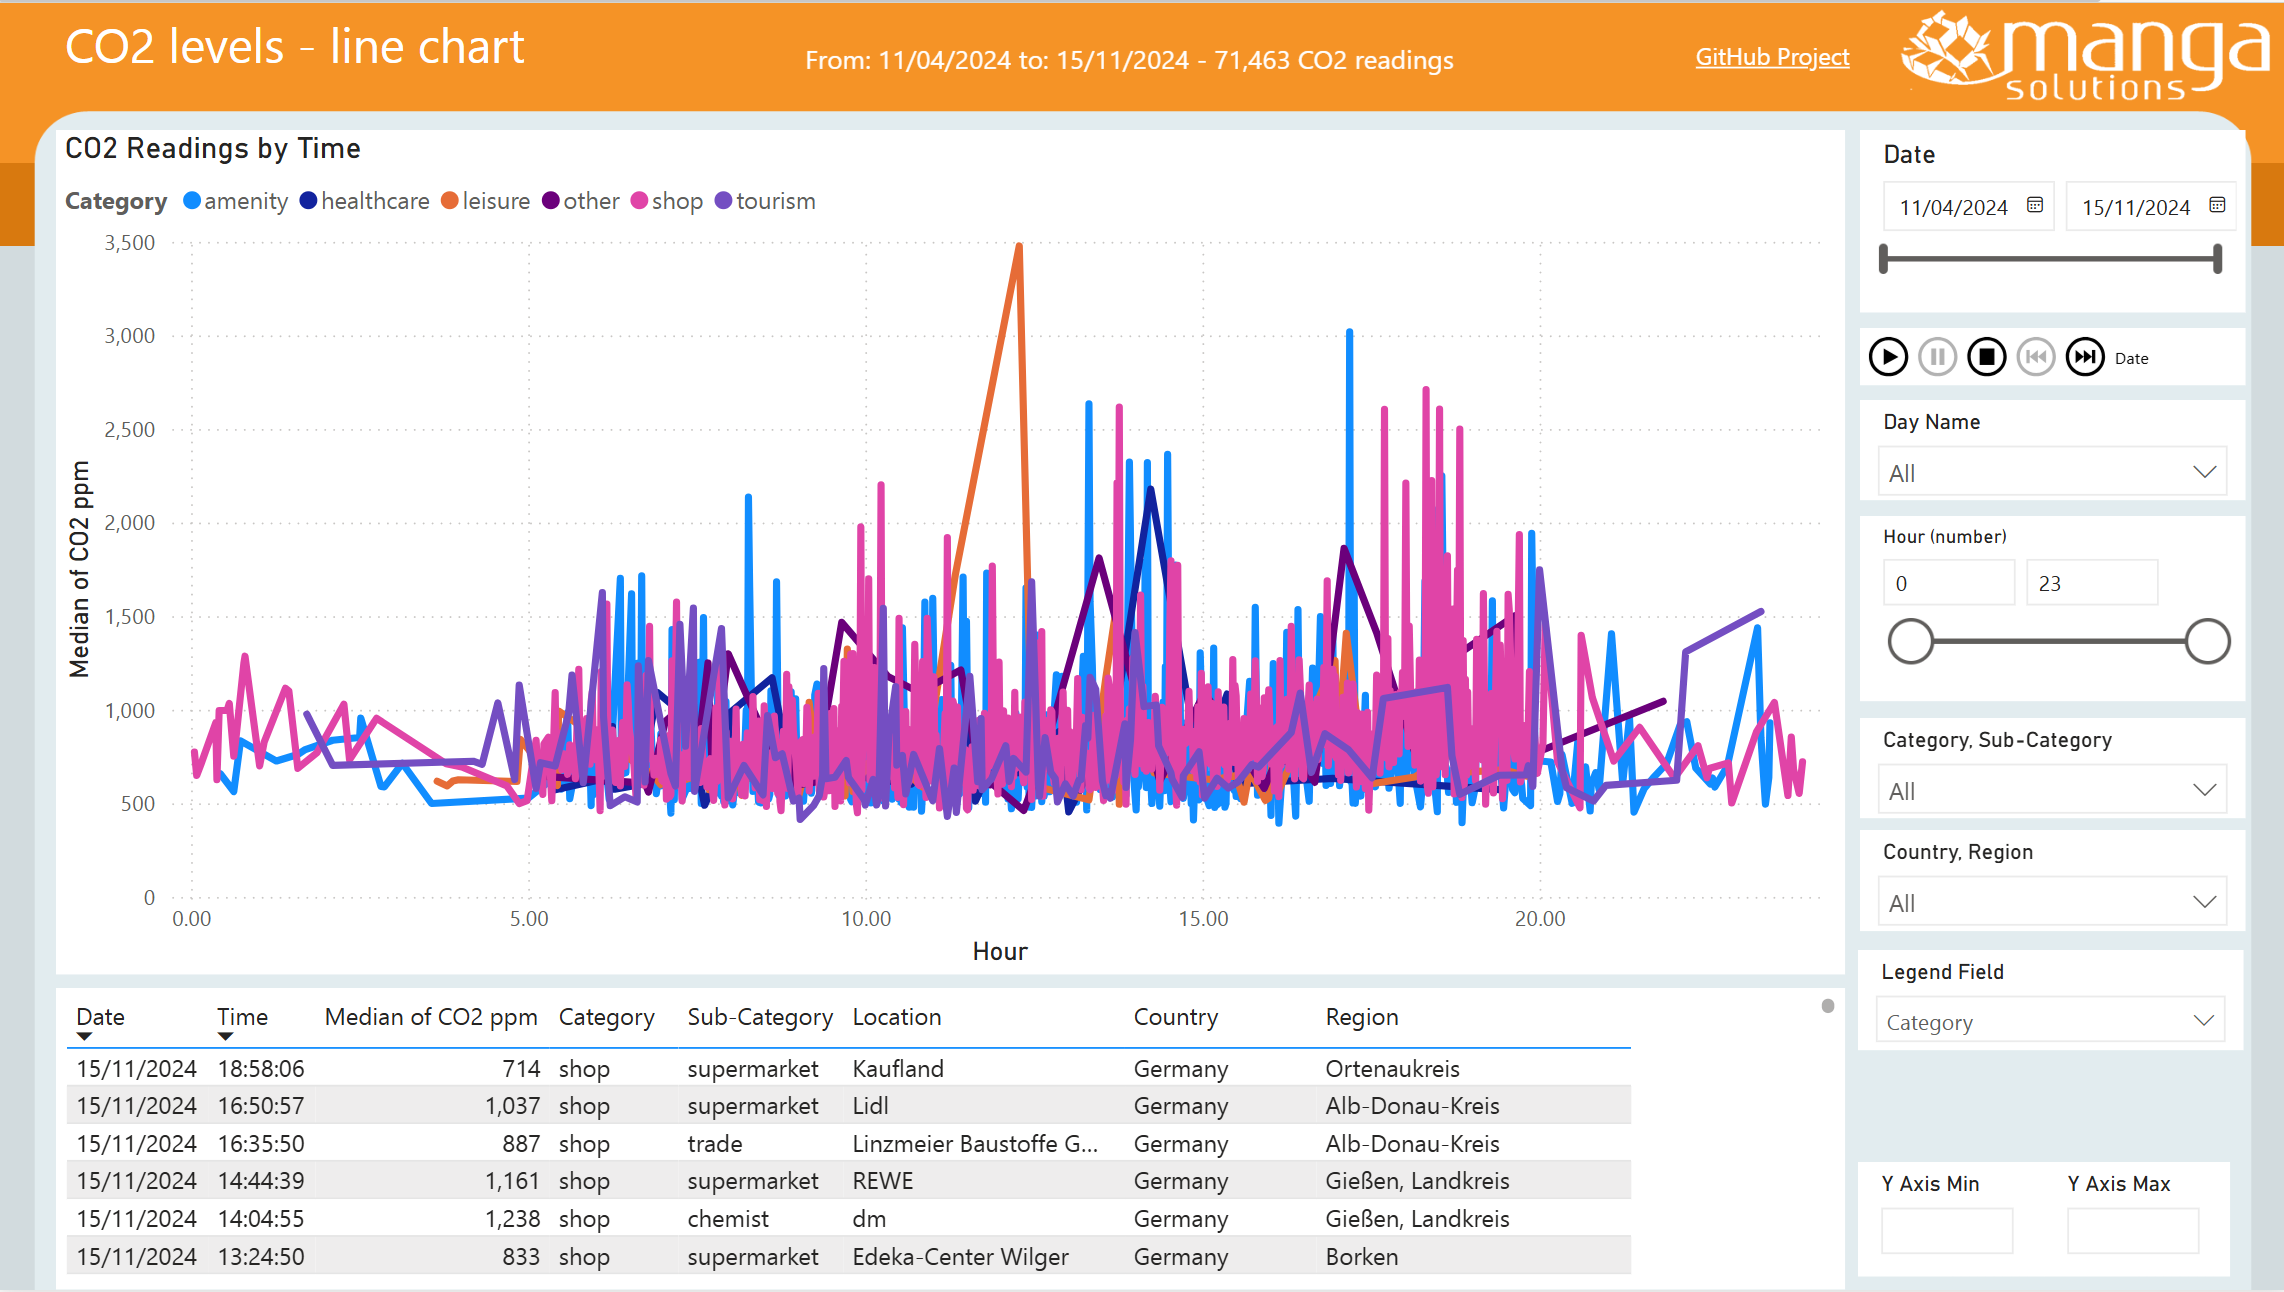

The page's visual inventory and layout, read from the dashboard file:
{"tool":"powerbi","page":{"name":"Line Chart","canvas":[1280,720],"ordinal":4},"visuals":[{"type":"slicer","fields":{"Values":["Parameter.Parameter"]},"box":[1040.1,530.2,215.5,55.9],"z":0},{"type":"slicer","fields":{"Values":["Y Axis Max.Y Axis Max"]},"box":[1144,648,104,64],"z":2000},{"type":"slicer","title":"Y Axis Min","fields":{"Values":["^ Y Axis Min.^ Y Axis Min"]},"box":[1040,648,104,64],"z":3000},{"type":"actionButton","box":[1056,0,224,64],"z":4000},{"type":"textbox","box":[32,0,720,48],"z":5000},{"type":"htmlContent443BE3AD55E043BF878BED274D3A6865","fields":{"content":["Aranet Data.@ Date Range"]},"box":[408,16,464,32],"z":6000},{"type":"lineChart","title":"CO2 Readings by Time","fields":{"Y":["CO2 levels.# Median of CO2 ppm"],"Series":["CO2 levels.Category"],"Category":["Aranet Data.Time (decimal)"]},"box":[32,72,1000,472],"z":7000},{"type":"tableEx","fields":{"Values":["CO2_readings.date","CO2_readings.Time","CO2 levels.# Median of CO2 ppm","CO2 levels.Category","CO2 levels.Sub-Category","CO2 levels.Location","CO2 levels.Country","CO2 levels.Region"]},"box":[31.9,551.5,1000.2,168.5],"z":8000},{"type":"slicer","fields":{"Values":["CO2_readings.Day Name"]},"box":[1040.5,222.6,215.5,55.9],"z":9000},{"type":"slicer","fields":{"Values":["CO2_readings.date"]},"box":[1040.5,71.8,215.5,102],"z":10000},{"type":"slicer","fields":{"Values":["CO2_readings.Hour (number)1"]},"box":[1040.5,287.3,215.5,103.7],"z":11000},{"type":"PBI_CV_16948668_E17D_454B_8664_2F2C470EA8C1","fields":{"category":["CO2_readings.Date (Short)"]},"box":[1040.5,182.7,215.5,31.9],"z":12000},{"type":"slicer","fields":{"Values":["CO2 levels.Category","CO2 levels.Sub-Category"]},"box":[1040.5,399.9,215.5,55.9],"z":13000},{"type":"slicer","fields":{"Values":["CO2 levels.Country","CO2 levels.Region"]},"box":[1040.5,462.9,215.5,56.7],"z":14000},{"type":"textbox","box":[920,16,120,32],"z":15000}]}

Visuals, with their boxes in screenshot pixels (x1, y1, x2, y2), scaled from the page's 1280x720 canvas onto the 2284x1292 screenshot:
slicer - Parameter.Parameter: [x1=1856, y1=951, x2=2240, y2=1052]
slicer - Y Axis Max.Y Axis Max: [x1=2041, y1=1163, x2=2227, y2=1278]
"Y Axis Min" slicer: [x1=1856, y1=1163, x2=2041, y2=1278]
actionButton: [x1=1884, y1=0, x2=2283, y2=115]
textbox: [x1=57, y1=0, x2=1342, y2=86]
htmlContent443BE3AD55E043BF878BED274D3A6865 - Aranet Data.@ Date Range: [x1=728, y1=29, x2=1556, y2=86]
"CO2 Readings by Time" lineChart: [x1=57, y1=129, x2=1841, y2=976]
tableEx - CO2_readings.date x CO2_readings.Time: [x1=57, y1=990, x2=1842, y2=1291]
slicer - CO2_readings.Day Name: [x1=1857, y1=399, x2=2241, y2=500]
slicer - CO2_readings.date: [x1=1857, y1=129, x2=2241, y2=312]
slicer - CO2_readings.Hour (number)1: [x1=1857, y1=516, x2=2241, y2=702]
PBI_CV_16948668_E17D_454B_8664_2F2C470EA8C1 - CO2_readings.Date (Short): [x1=1857, y1=328, x2=2241, y2=385]
slicer - CO2 levels.Category x CO2 levels.Sub-Category: [x1=1857, y1=718, x2=2241, y2=818]
slicer - CO2 levels.Country x CO2 levels.Region: [x1=1857, y1=831, x2=2241, y2=932]
textbox: [x1=1642, y1=29, x2=1856, y2=86]
